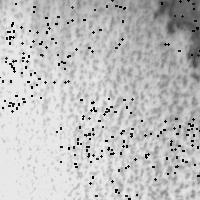pitted_surface: (2, 10, 196, 198), (141, 118, 200, 178), (9, 22, 68, 81), (56, 109, 111, 166), (73, 98, 131, 152), (153, 1, 198, 68), (6, 0, 57, 52), (71, 0, 124, 50), (0, 52, 40, 111), (87, 154, 136, 200), (161, 0, 200, 54)
